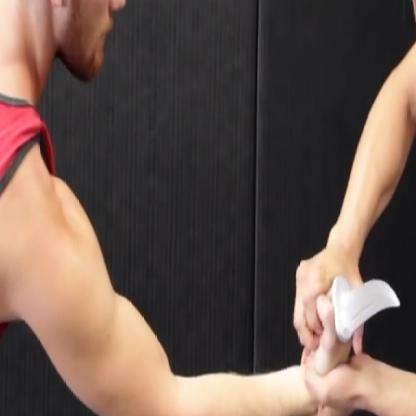knife: (296, 258, 410, 362)
